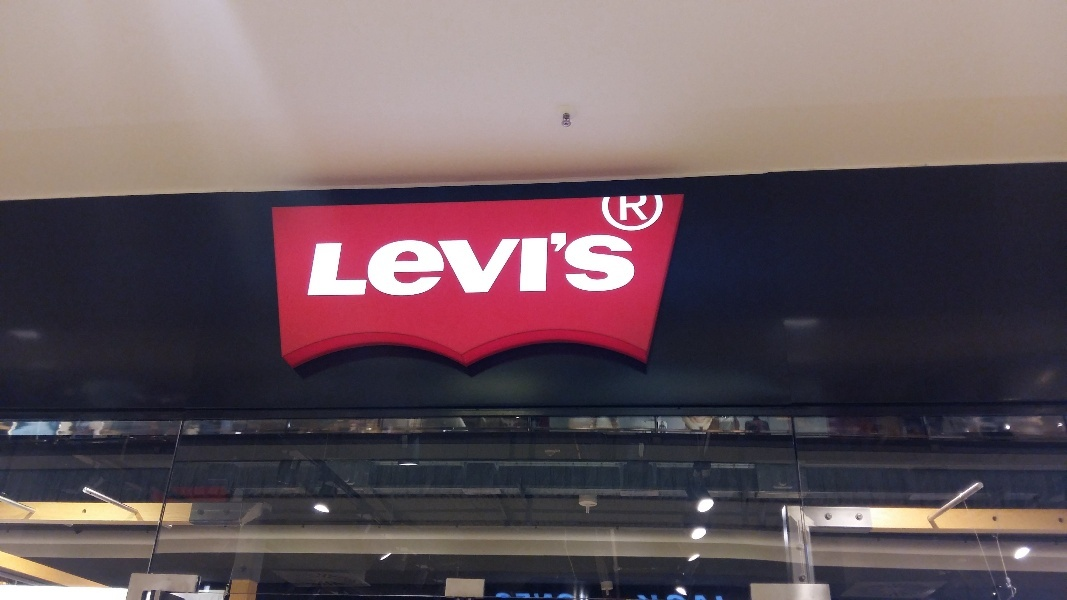text: (321, 229, 336, 299), (337, 229, 352, 299), (353, 229, 368, 299), (369, 229, 384, 299), (385, 229, 400, 299), (401, 229, 416, 299), (417, 229, 432, 299), (433, 229, 448, 299), (449, 229, 464, 299), (465, 229, 480, 299), (481, 229, 496, 299), (497, 229, 512, 299), (513, 229, 528, 299), (529, 229, 544, 299), (545, 229, 560, 299), (561, 229, 576, 299), (577, 229, 592, 299), (593, 229, 608, 299), (609, 229, 624, 299), (625, 229, 638, 299), (625, 193, 640, 223), (314, 229, 320, 299), (641, 193, 651, 223), (617, 193, 624, 223)
